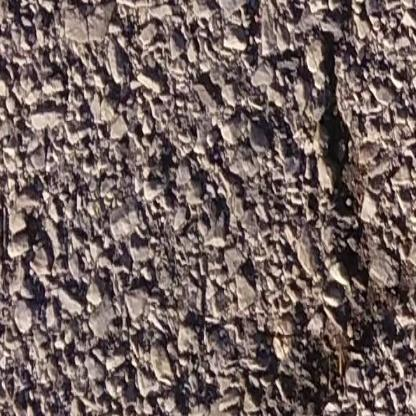Cracks: (207, 0, 416, 416), (351, 40, 384, 58)
